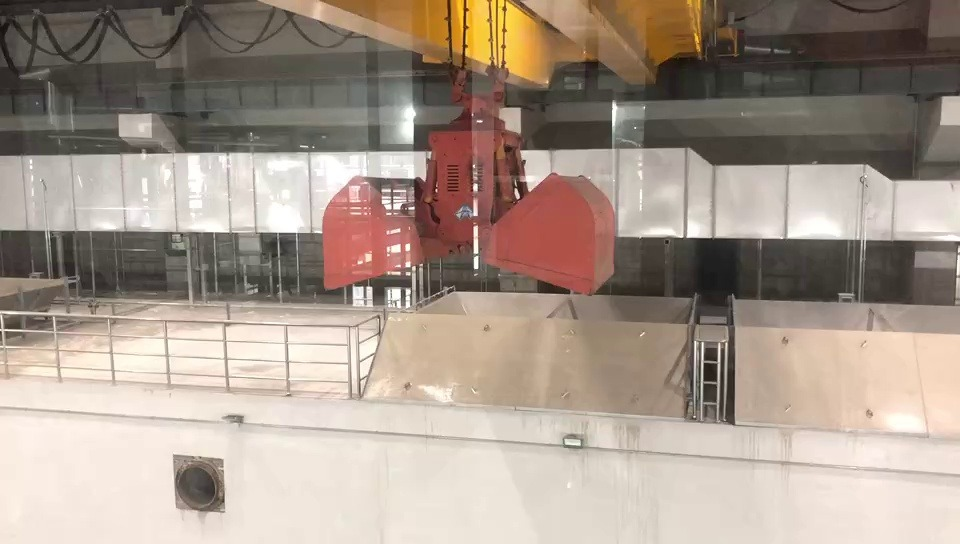grab: (315, 74, 630, 301)
